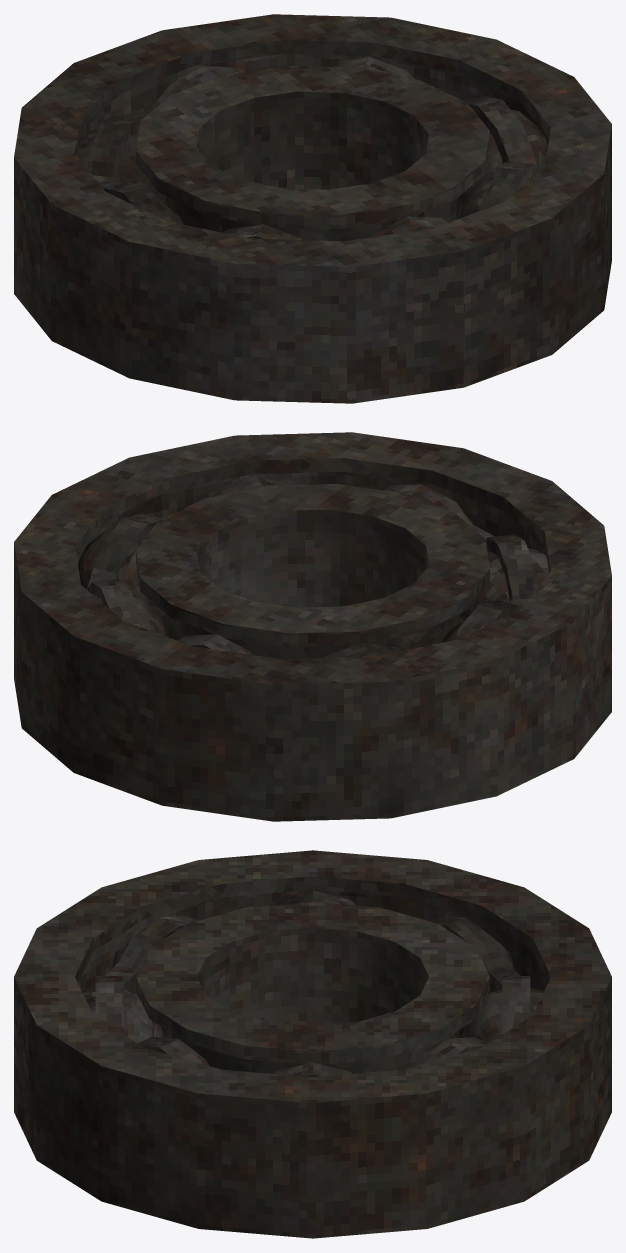
Rendered from ball_bearing_mx_1_2_large.glb.
3 renders of one model, top to bottom at view 1: azimuth 30°, elevation 25°; view 2: azimuth 150°, elevation 25°; view 3: azimuth 270°, elevation 25°, orthographic.
Parts seen in each view (by area): view 1: ball_bearing_mx_1_2_large; view 2: ball_bearing_mx_1_2_large; view 3: ball_bearing_mx_1_2_large.
Boxes of the visible parts, x1=… form: ball_bearing_mx_1_2_large: x1=14, y1=14, x2=611, y2=403; ball_bearing_mx_1_2_large: x1=14, y1=432, x2=611, y2=821; ball_bearing_mx_1_2_large: x1=14, y1=850, x2=611, y2=1238.
Size of the model in its own units: 0.2 by 0.05 by 0.2.
1 material, 1 textured.
